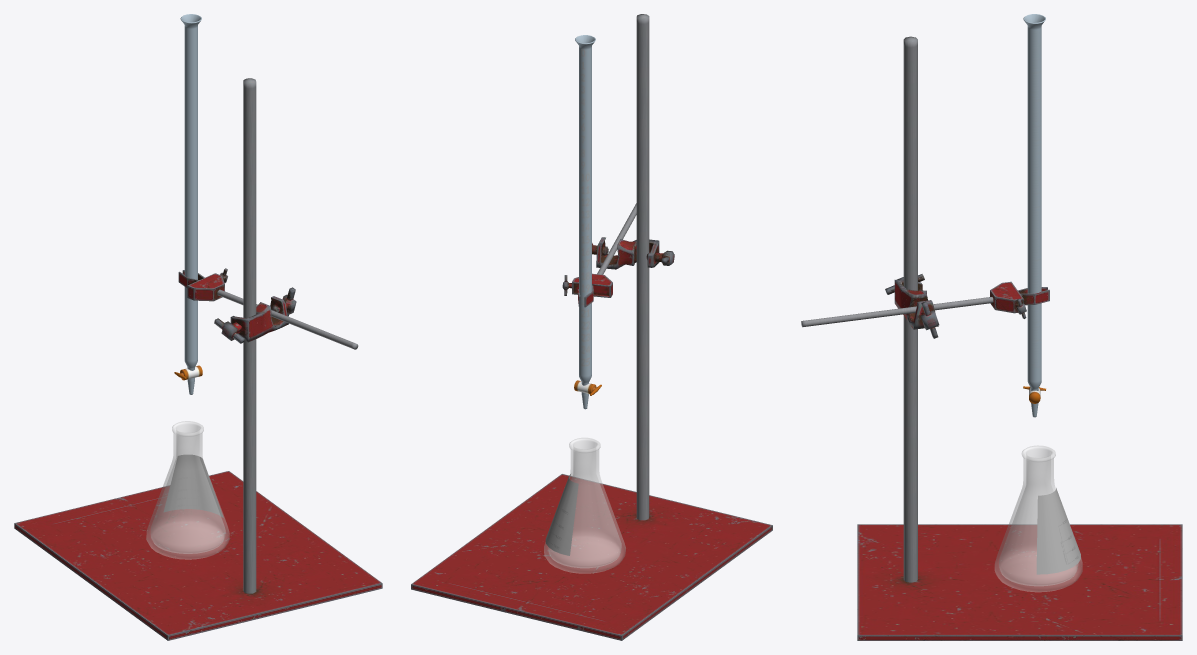
File: Stand&Conical&Burette.fbx
3 renders of one model, left to right at view 1: azimuth 30°, elevation 25°; view 2: azimuth 150°, elevation 25°; view 3: azimuth 270°, elevation 25°, orthographic. The views are drawn at different scales.
Parts seen in each view (by area): view 1: Stand_base, Conical_flask_mid_glas_0, StandSupport, BuretteGlass, holder-mid, rod-mid, holder; view 2: Stand_base, StandSupport, Conical_flask_mid_glas_0, BuretteGlass, holder-mid, holder; view 3: Stand_base, Conical_flask_mid_glas_0, StandSupport, BuretteGlass, rod-mid, holder-mid, holder.
Boxes of the visible parts, x1,y1,x2,y2 form: Stand_base: (14,471,382,640); Conical_flask_mid_glas_0: (146,421,229,559); StandSupport: (243,78,256,593); BuretteGlass: (180,14,201,394); holder-mid: (230,296,288,342); rod-mid: (217,289,358,349); holder: (187,273,224,301); Stand_base: (411,474,772,640); StandSupport: (636,14,649,520); Conical_flask_mid_glas_0: (544,438,625,573); BuretteGlass: (575,35,595,409); holder-mid: (596,237,659,269); holder: (572,273,612,297); Stand_base: (857,524,1182,640); Conical_flask_mid_glas_0: (995,445,1082,591); StandSupport: (903,36,917,582); BuretteGlass: (1023,14,1045,417); rod-mid: (801,297,993,327); holder-mid: (894,280,938,329); holder: (990,281,1023,313).
Bounding box in the file's own units: 25.33 × 60.34 × 36.81.
Materials: 5 (3 with a texture image).
